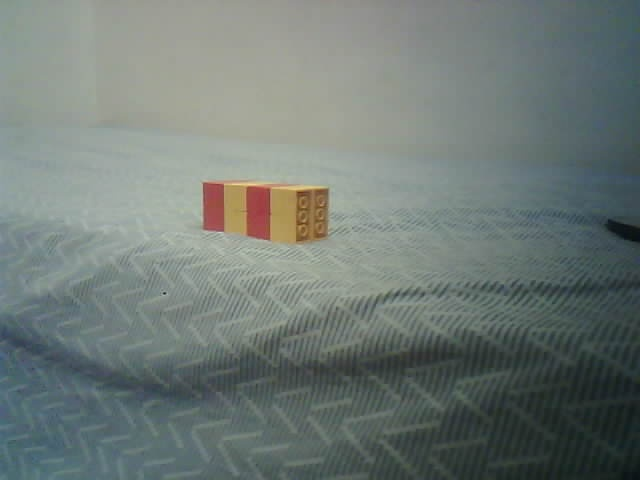lego: (201, 178, 330, 245)
